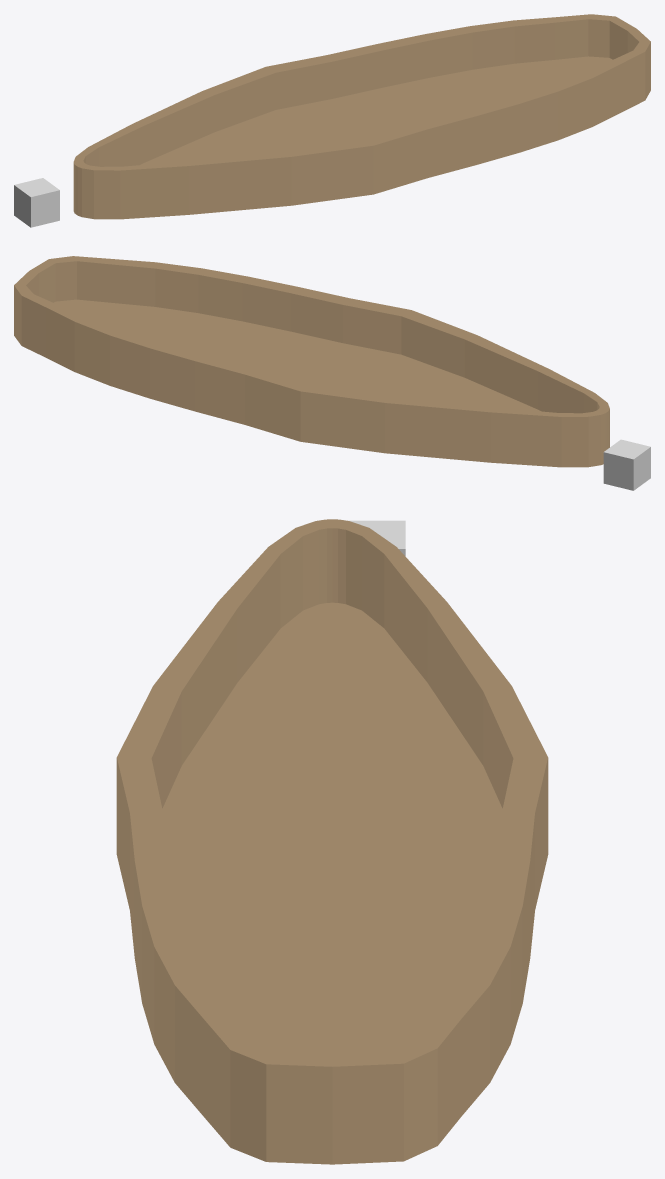
Rendered from shipcol.glb.
3 renders of one model, top to bottom at view 1: azimuth 30°, elevation 25°; view 2: azimuth 150°, elevation 25°; view 3: azimuth 270°, elevation 25°, orthographic. The views are drawn at different scales.
Parts seen in each view (by area): view 1: Cylinder.037, Cube.027; view 2: Cylinder.037, Cube.027; view 3: Cylinder.037.
Boxes of the visible parts, x1,y1,x2,y2 form: Cylinder.037: (73,14,650,219); Cube.027: (14,178,59,227); Cylinder.037: (14,256,609,467); Cube.027: (603,439,650,490); Cylinder.037: (116,519,548,1164).
Bounding box in the file's own units: 1.4 × 0.1162 × 0.4329.
